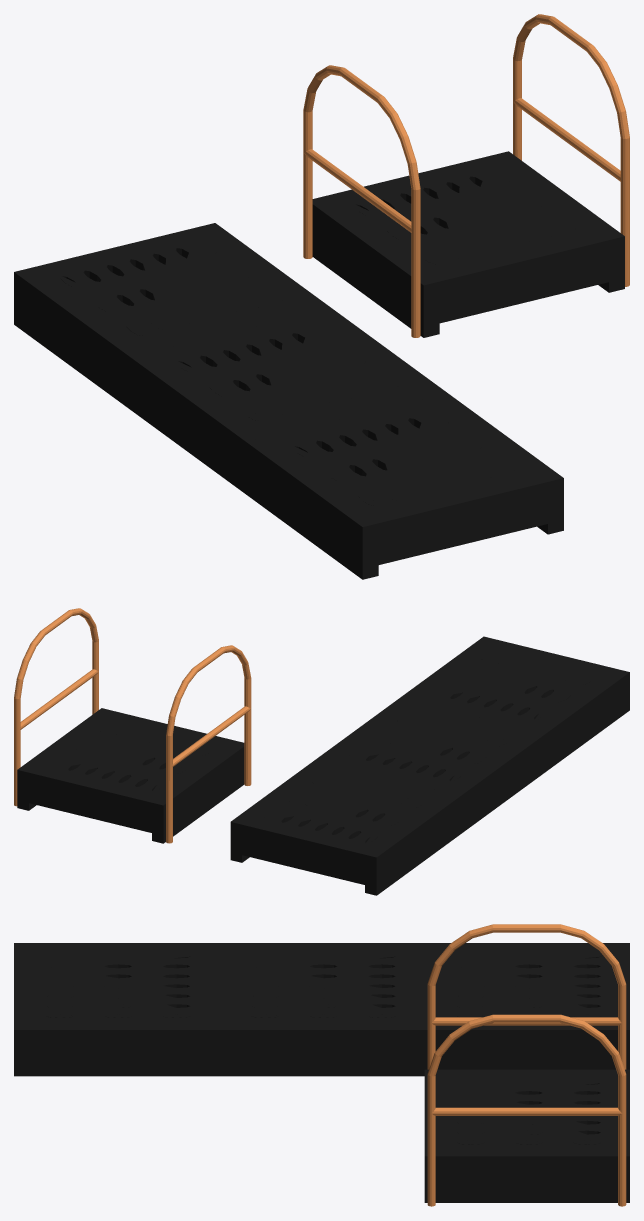
File: catPlat1x1.fbx
The picture shows the model from 3 angles, top to bottom: view 1: azimuth 30°, elevation 25°; view 2: azimuth 150°, elevation 25°; view 3: azimuth 270°, elevation 25°; orthographic projection. The views are drawn at different scales.
Parts seen in each view (by area): view 1: CatPlat1.003, CatPlat1, catPlat1Rail.002, catPlat1Rail.001; view 2: CatPlat1.003, CatPlat1, catPlat1Rail.002, catPlat1Rail.001; view 3: CatPlat1.003, CatPlat1, catPlat1Rail.001, catPlat1Rail.002.
Part boxes in pixels (x1=…): CatPlat1.003: x1=14, y1=223, x2=563, y2=579; CatPlat1: x1=312, y1=151, x2=624, y2=337; catPlat1Rail.002: x1=303, y1=65, x2=420, y2=337; catPlat1Rail.001: x1=513, y1=14, x2=629, y2=286; CatPlat1.003: x1=230, y1=636, x2=629, y2=895; CatPlat1: x1=17, y1=708, x2=244, y2=843; catPlat1Rail.002: x1=166, y1=645, x2=251, y2=843; catPlat1Rail.001: x1=14, y1=608, x2=98, y2=806; CatPlat1.003: x1=14, y1=943, x2=629, y2=1076; CatPlat1: x1=424, y1=1069, x2=629, y2=1202; catPlat1Rail.001: x1=427, y1=1014, x2=626, y2=1206; catPlat1Rail.002: x1=427, y1=924, x2=626, y2=1069.
Bounding box in the file's own units: 500 × 600 × 204.
